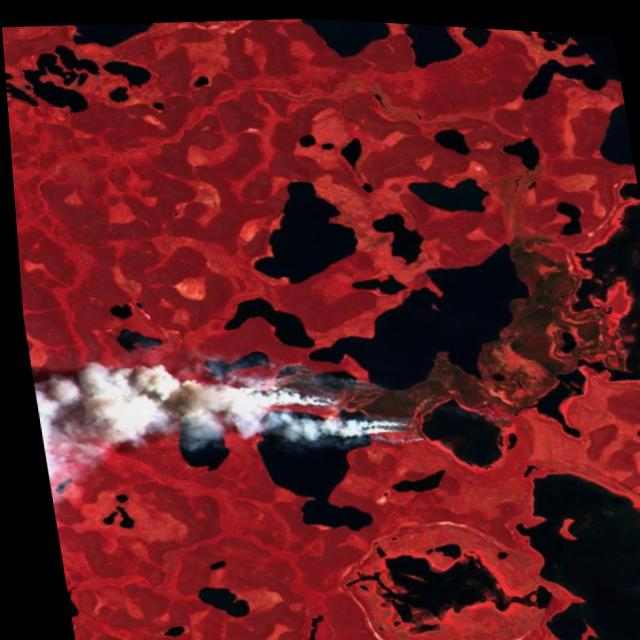fire: (165, 336, 430, 462)
